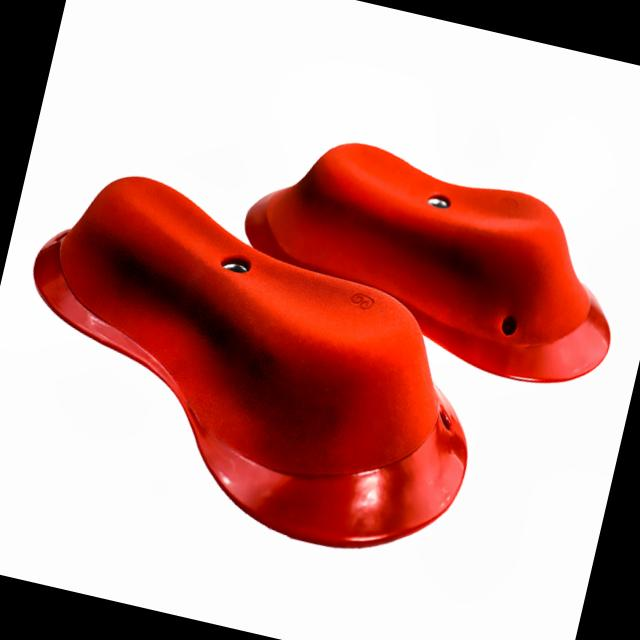Hold: (19, 162, 474, 571), (241, 131, 618, 393)
